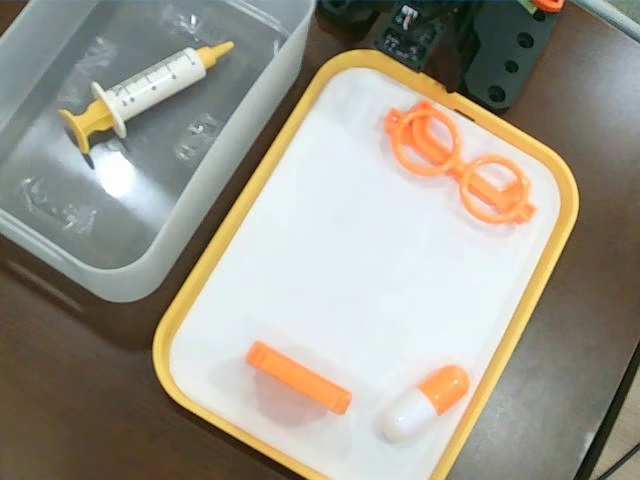pill: (380, 364, 470, 443)
syringe: (58, 39, 238, 154)
